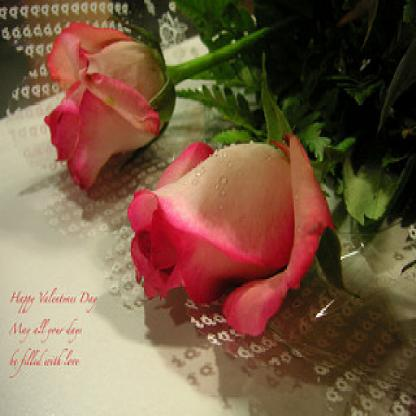ROSE-MAWAR: (36, 13, 340, 343)
